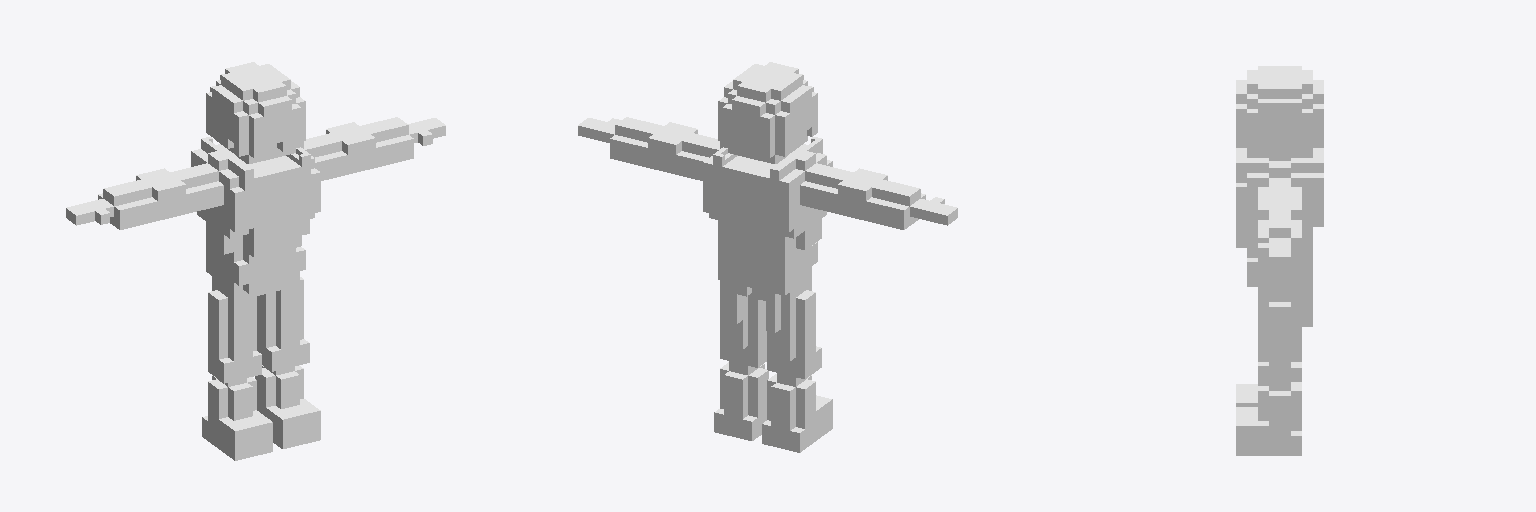
File: Character-8.obj
3 renders of one model, left to right at view 1: azimuth 30°, elevation 25°; view 2: azimuth 150°, elevation 25°; view 3: azimuth 270°, elevation 25°, orthographic.
Parts seen in each view (by area): view 1: object 1; view 2: object 1; view 3: object 1.
Part boxes in pixels (x1,y1,x2,y2): object 1: (66, 62, 445, 460); object 1: (578, 62, 957, 452); object 1: (1236, 66, 1323, 455).
Bounding box in the file's own units: 7.8 × 7.2 × 1.6.